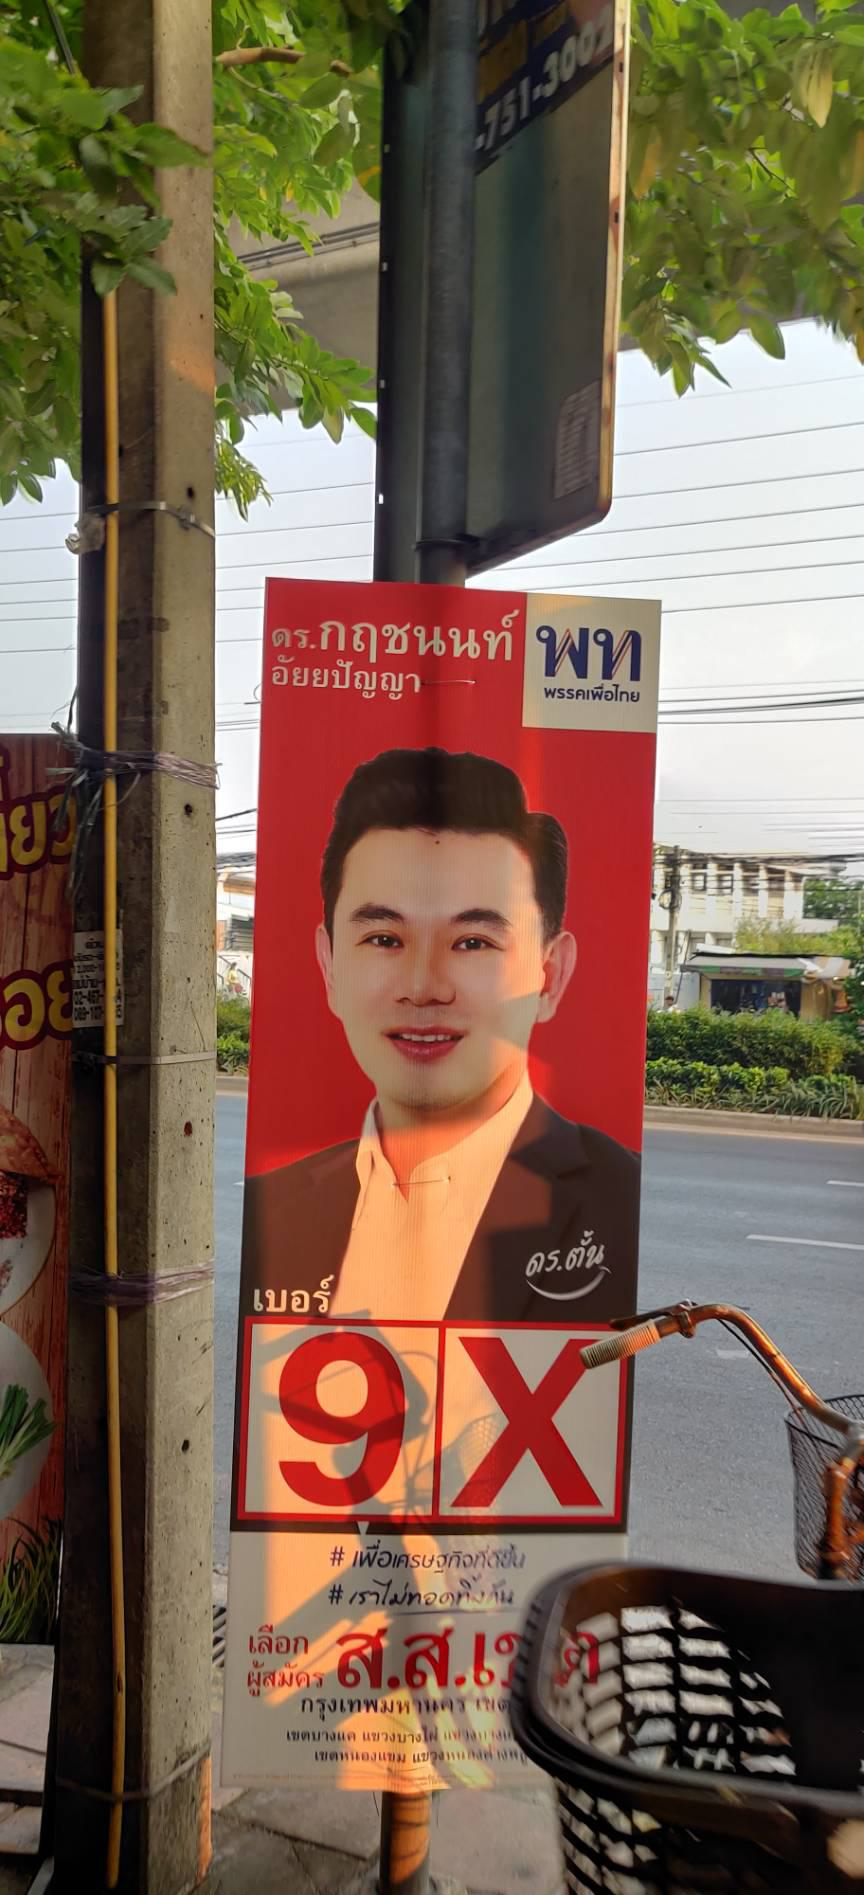Banner: (239, 546, 666, 1803)
